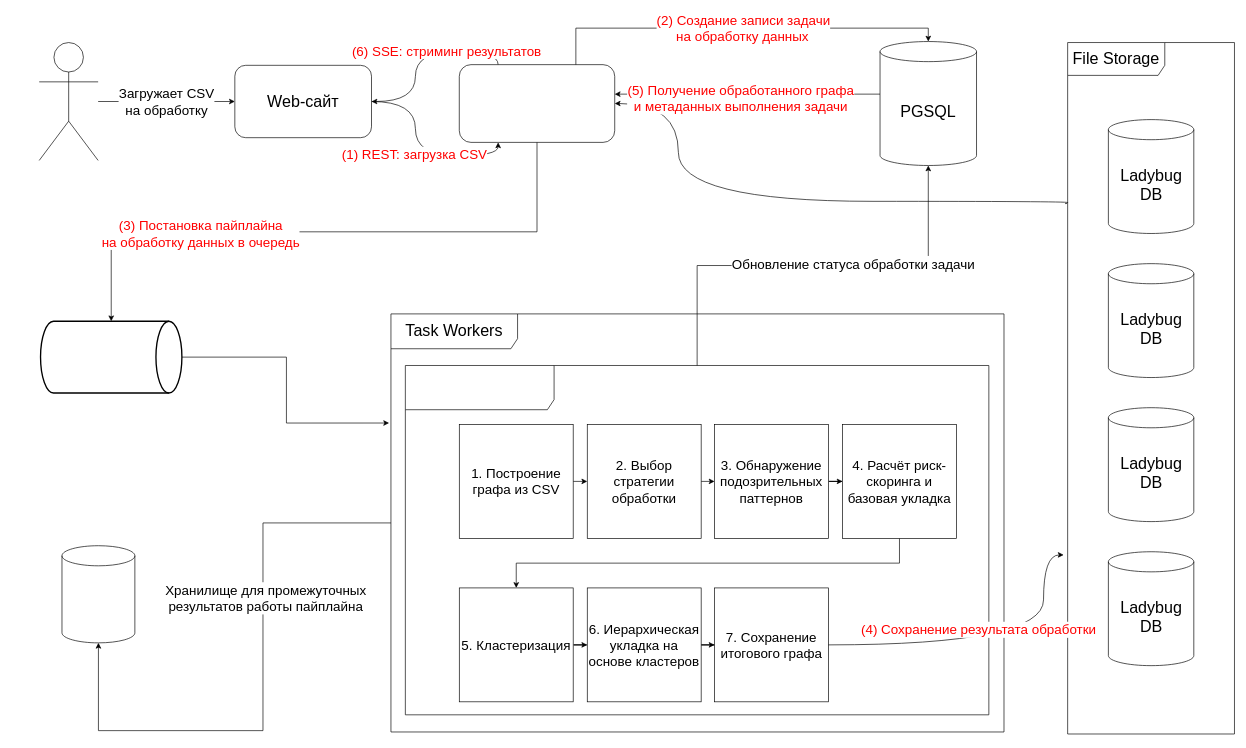
This 1246x748 diagram has some shape labels left out. Here are the shapes that lost their labels. From the top down, the centre of each, then its label:
At point 68,101: "Пользователь".
At point 537,103: "Backend API".
At point 111,356: "RabbitMQ".
At point 697,540: "Пайплайн обработки".
At point 98,594: "Redis".
